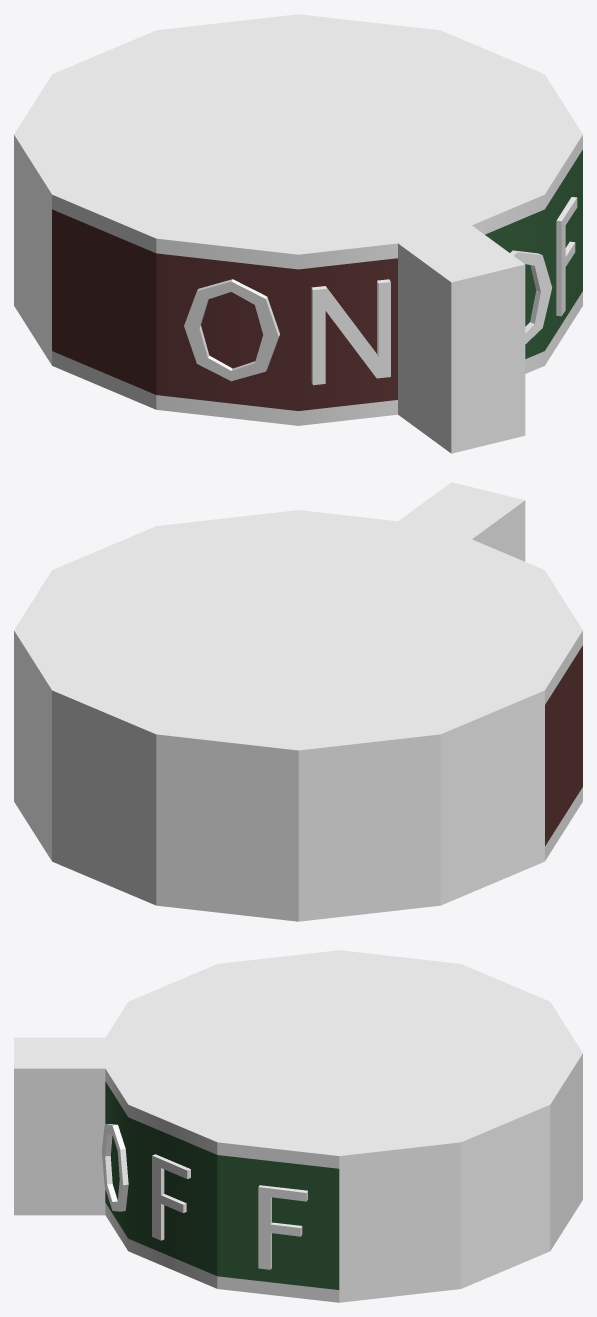
The model's file is acb_roller2.fbx.
3 renders of one model, top to bottom at view 1: azimuth 30°, elevation 25°; view 2: azimuth 150°, elevation 25°; view 3: azimuth 270°, elevation 25°, orthographic. The views are drawn at different scales.
Parts seen in each view (by area): view 1: acb_roller2; view 2: acb_roller2; view 3: acb_roller2.
Part boxes in pixels (x1,y1,x2,y2): acb_roller2: [14, 14, 582, 453]; acb_roller2: [14, 482, 582, 921]; acb_roller2: [14, 950, 582, 1302].
Size of the model in its own units: 0.0366 by 0.0122 by 0.0428.
1 material, 1 textured.
